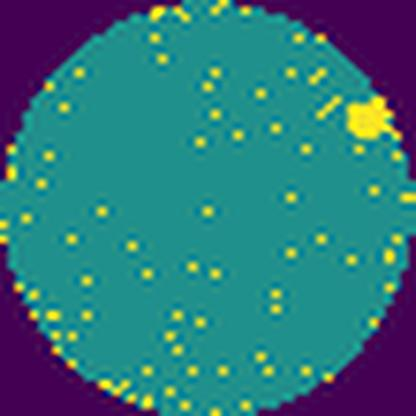Loc: (347, 98, 390, 139)
